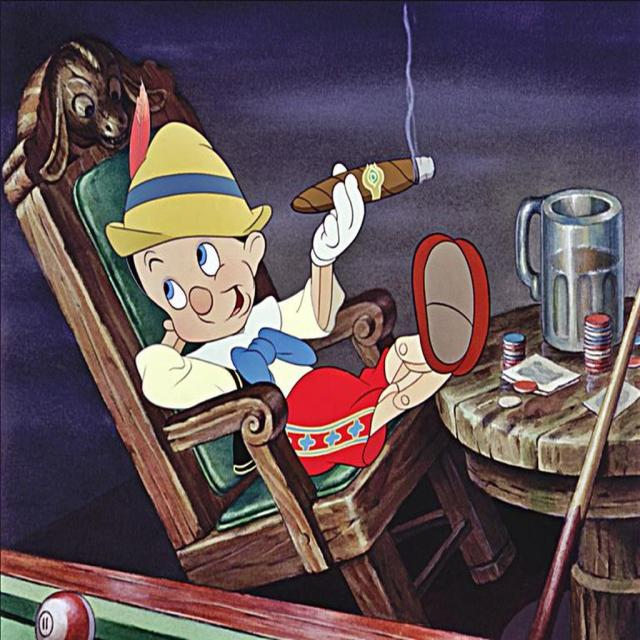smoking: (128, 39, 438, 343)
